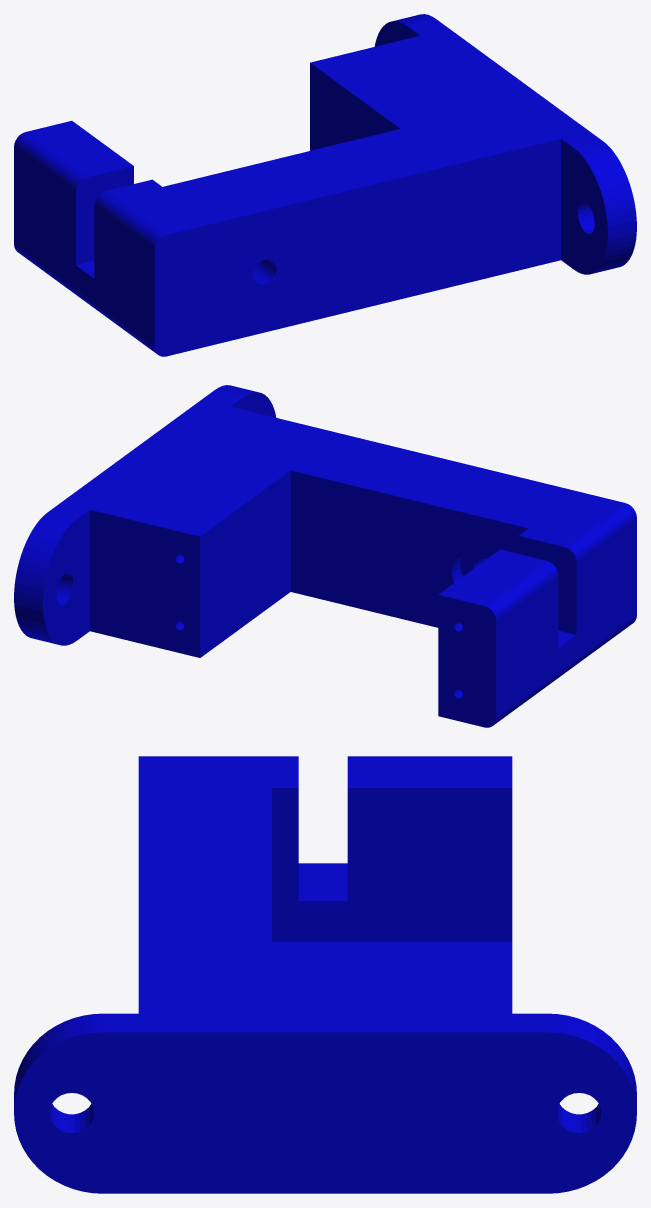
The model's file is headTiltArm.dae.
3 renders of one model, top to bottom at view 1: azimuth 30°, elevation 25°; view 2: azimuth 150°, elevation 25°; view 3: azimuth 270°, elevation 25°, orthographic. The views are drawn at different scales.
Parts seen in each view (by area): view 1: node0; view 2: node0; view 3: node0.
Part boxes in pixels (x1,y1,x2,y2): node0: (14, 14, 636, 356); node0: (14, 385, 636, 727); node0: (14, 756, 636, 1193).
Bounding box in the file's own units: 75 × 70 × 20.
